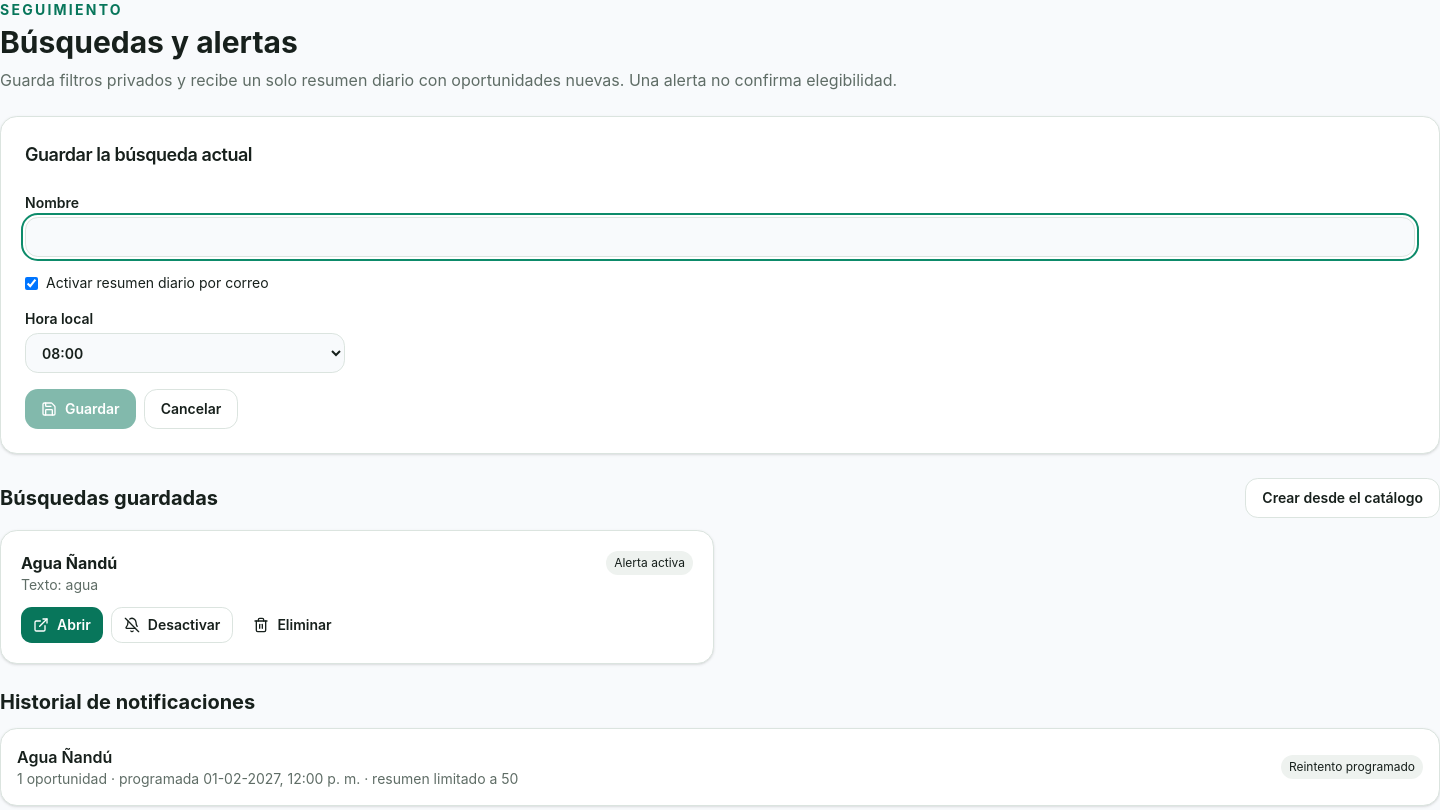
keeps partial success and the original local hour/time zone after a language change
The width and height of the screenshot is (1440, 810).
Step 1. Type "Agua Ñandú" into the field labelled "Nombre" → (720, 237), box top-left (25, 217), bottom-right (1415, 257)
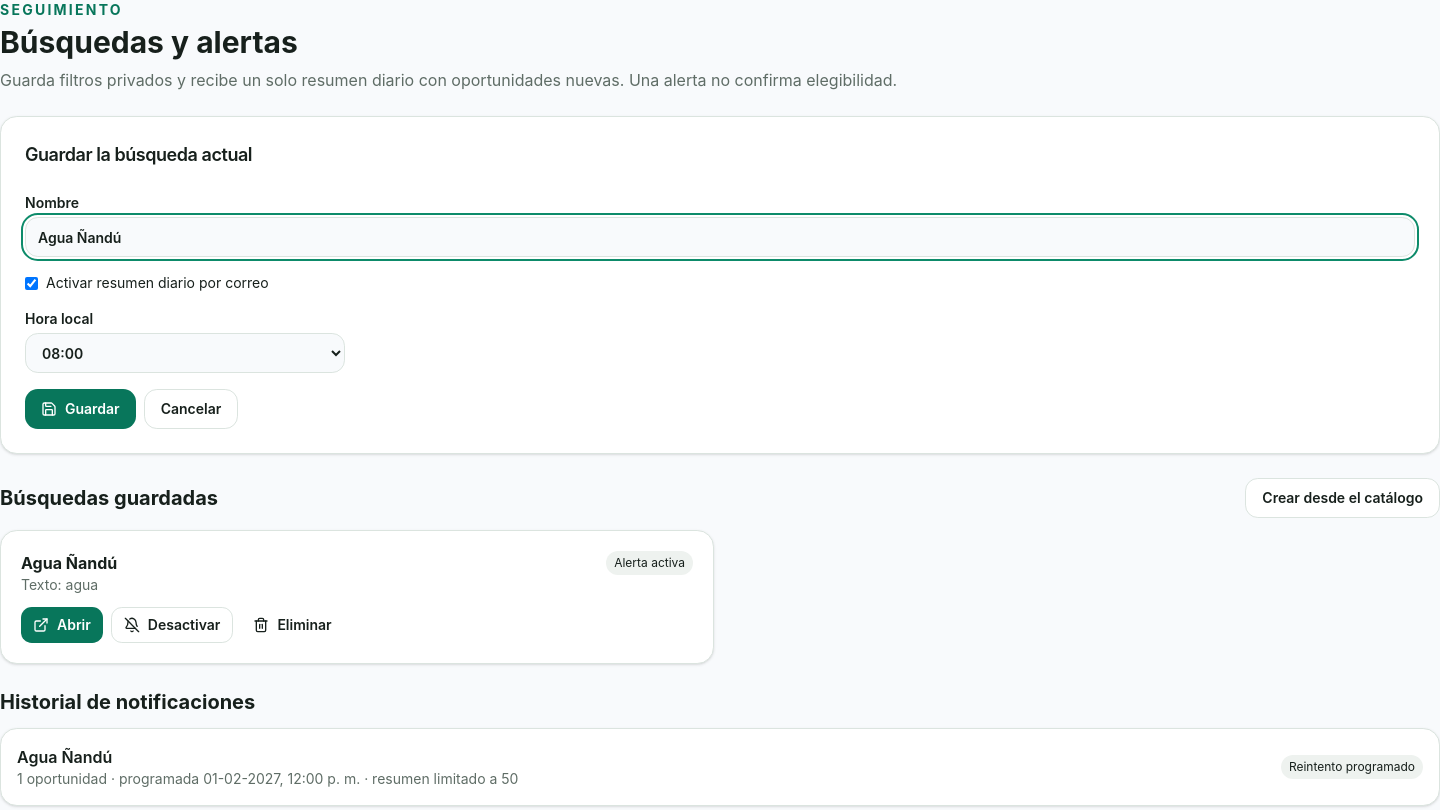
Step 2. Select "21:00" in the dropdown labelled "Hora local" → (185, 353), box top-left (25, 333), bottom-right (345, 373)
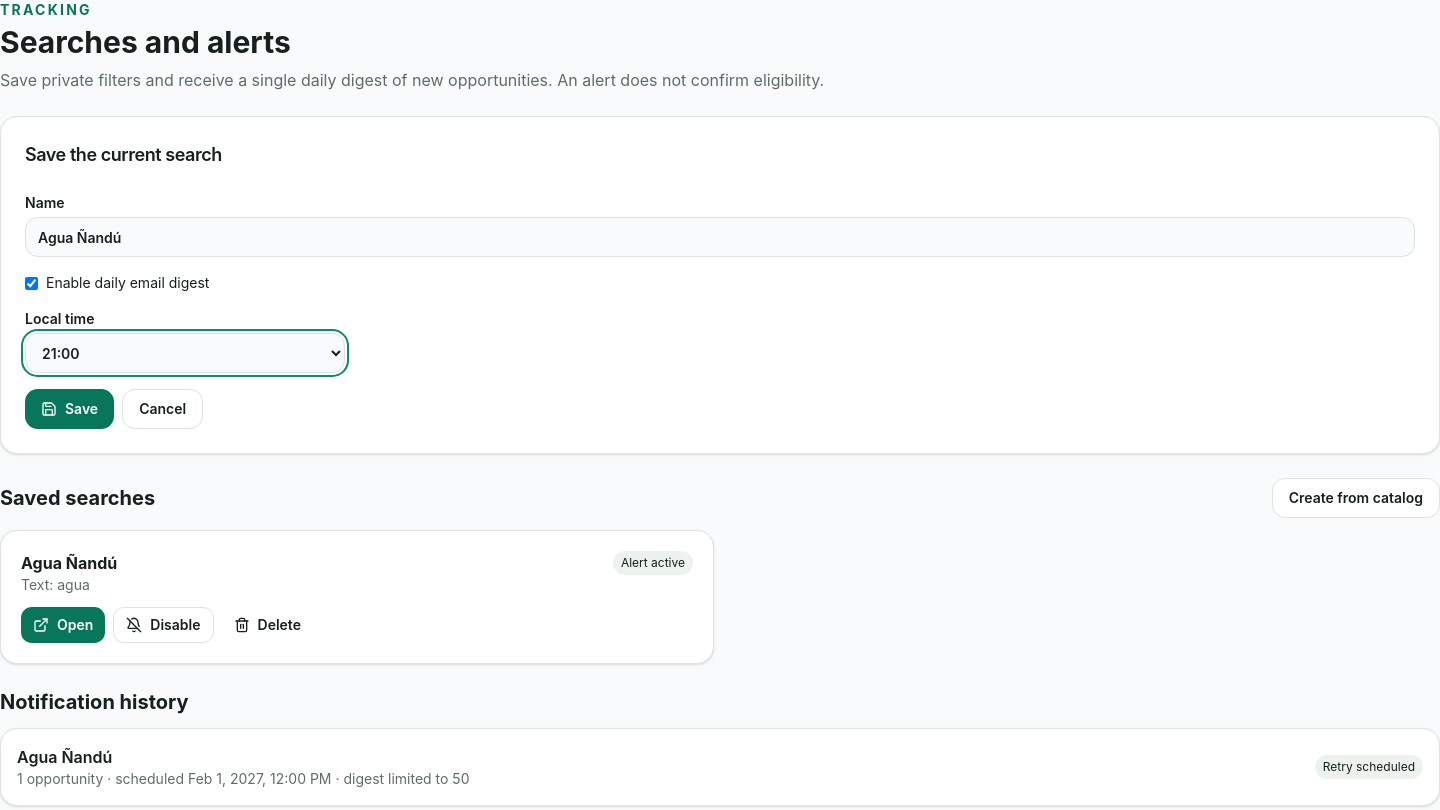
Step 3. Click the button "Save" → (70, 409), box top-left (25, 389), bottom-right (114, 429)
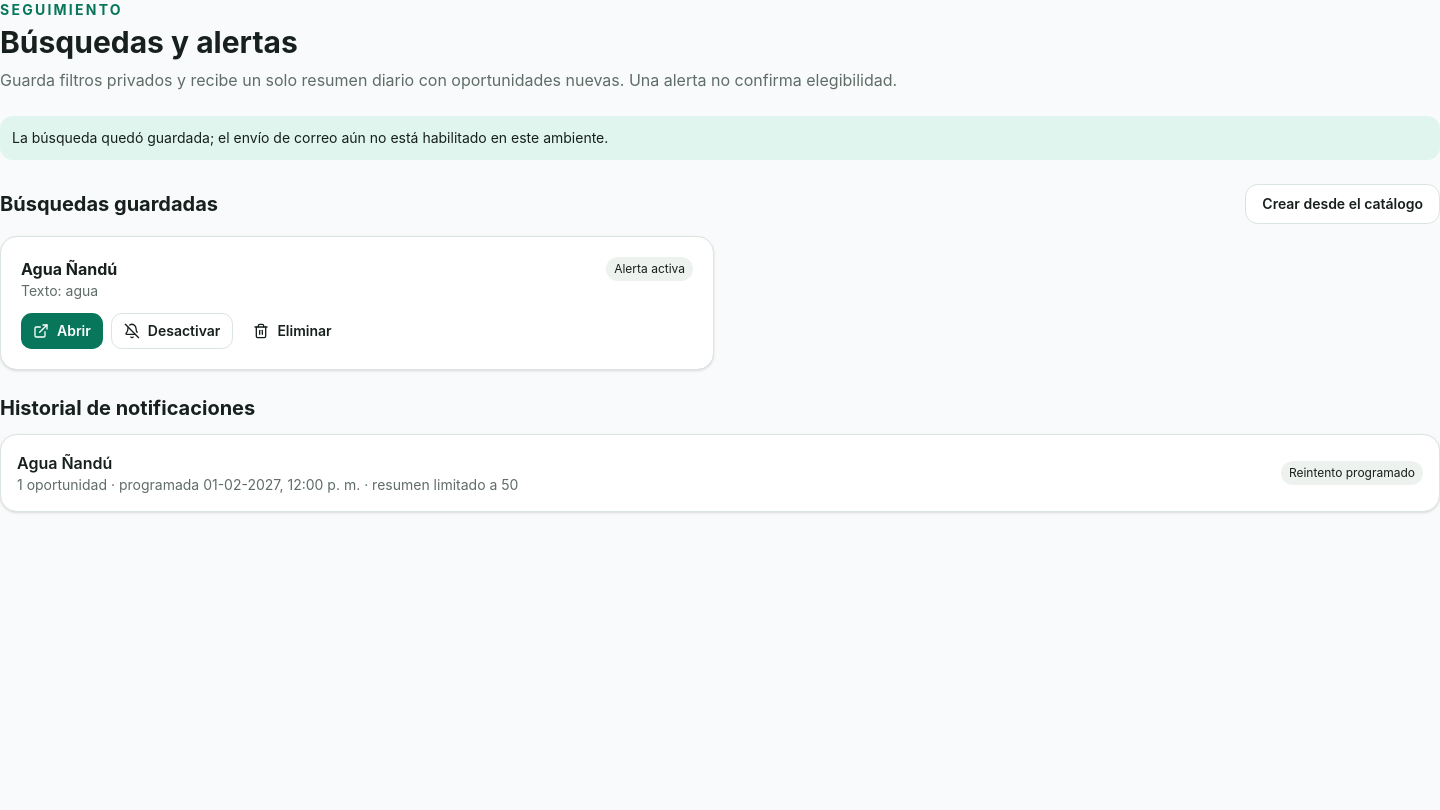
Result: the text "email delivery is not enabled" is shown at top-left (0, 116), bottom-right (1439, 160)
Result: the text "La búsqueda quedó guardada" is shown at top-left (12, 129), bottom-right (608, 146)
